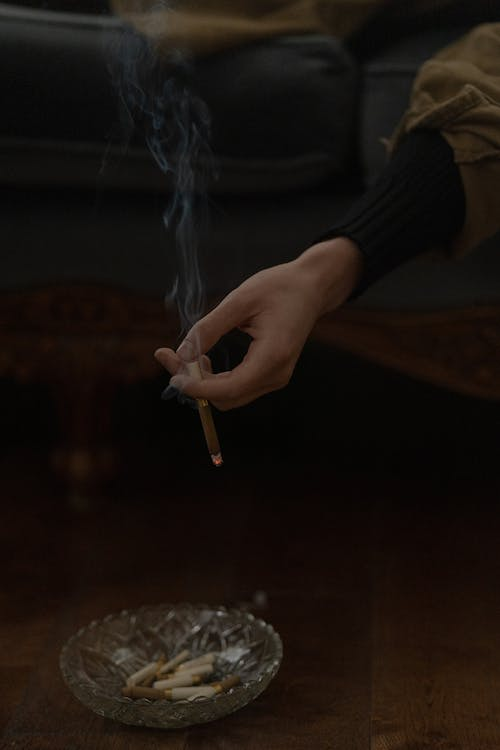cigarette: (186, 352, 224, 468)
